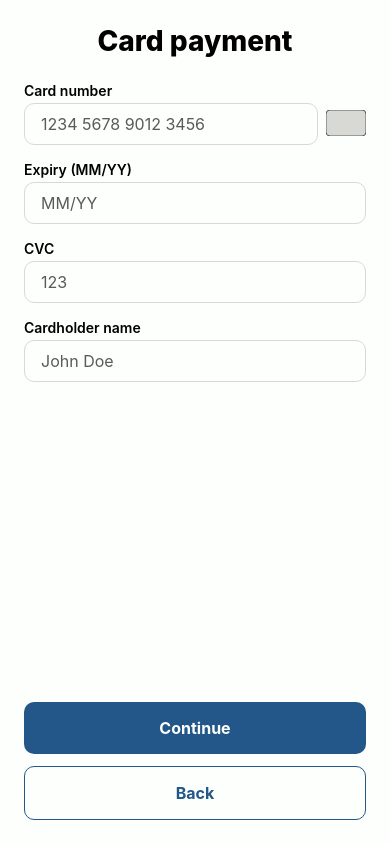
Test: CardScreen › shows the Mastercard brand logo as a valid Mastercard number is typed
The width and height of the screenshot is (390, 844).
Type "5555555555554444" into the field named "Card number" at (171, 124), box [24,103,318,145]
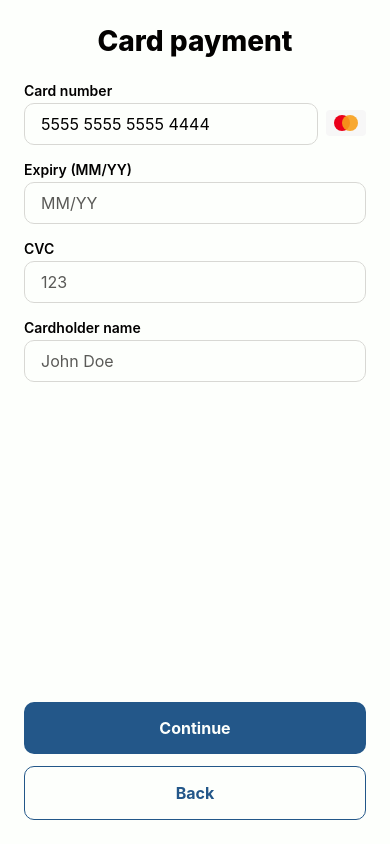
Check: the element with test id "card-brand-logo-mastercard" is shown, box [326,110,366,136]
